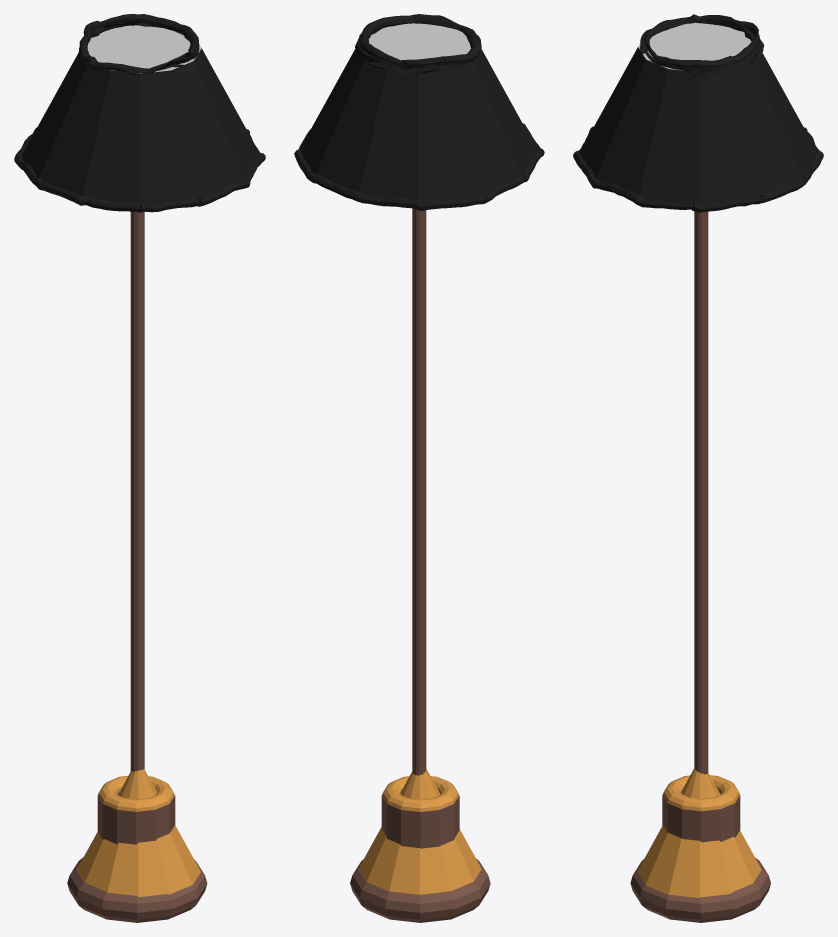
3 renders of one model, left to right at view 1: azimuth 30°, elevation 25°; view 2: azimuth 150°, elevation 25°; view 3: azimuth 270°, elevation 25°, orthographic.
Visible parts, largest first — view 1: mesh_663315449, mesh_2146598150, mesh_98939259, mesh_295391733, mesh_802999880, mesh_2143784288, group_439359913, group_2031585872, group_322761414, group_158485985, group_461903529; view 2: mesh_663315449, mesh_2146598150, mesh_98939259, mesh_295391733, mesh_802999880, mesh_2143784288, group_759175053, group_793641771, group_322761414, group_2031585872, group_326329088, mesh_1783123766; view 3: mesh_663315449, mesh_2146598150, mesh_98939259, mesh_295391733, mesh_802999880, mesh_2143784288, group_322761414, group_314949552, group_793641771.
Part boxes in pixels (<box>): mesh_663315449: <box>22,25,259,203</box>; mesh_2146598150: <box>130,211,144,771</box>; mesh_98939259: <box>77,769,200,897</box>; mesh_295391733: <box>67,857,207,922</box>; mesh_802999880: <box>97,791,175,844</box>; mesh_2143784288: <box>98,776,174,811</box>; group_439359913: <box>79,196,140,212</box>; group_2031585872: <box>79,23,199,75</box>; group_322761414: <box>158,18,198,57</box>; group_158485985: <box>138,198,199,212</box>; group_461903529: <box>196,179,250,206</box>; mesh_663315449: <box>300,23,536,201</box>; mesh_2146598150: <box>412,208,426,775</box>; mesh_98939259: <box>358,769,481,894</box>; mesh_295391733: <box>350,858,490,922</box>; mesh_802999880: <box>381,795,459,848</box>; mesh_2143784288: <box>382,776,458,811</box>; group_759175053: <box>414,194,484,210</box>; group_793641771: <box>401,48,478,67</box>; group_322761414: <box>359,14,420,42</box>; group_2031585872: <box>378,14,481,75</box>; group_326329088: <box>356,192,419,208</box>; mesh_1783123766: <box>414,15,479,51</box>; mesh_663315449: <box>580,22,816,204</box>; mesh_2146598150: <box>694,211,708,774</box>; mesh_98939259: <box>637,768,761,898</box>; mesh_295391733: <box>630,857,770,922</box>; mesh_802999880: <box>662,791,740,842</box>; mesh_2143784288: <box>663,775,739,811</box>; group_322761414: <box>652,51,734,68</box>; group_314949552: <box>692,196,761,212</box>; group_793641771: <box>693,14,758,36</box>.
Size of the model in its own units: 177 by 685 by 180.
